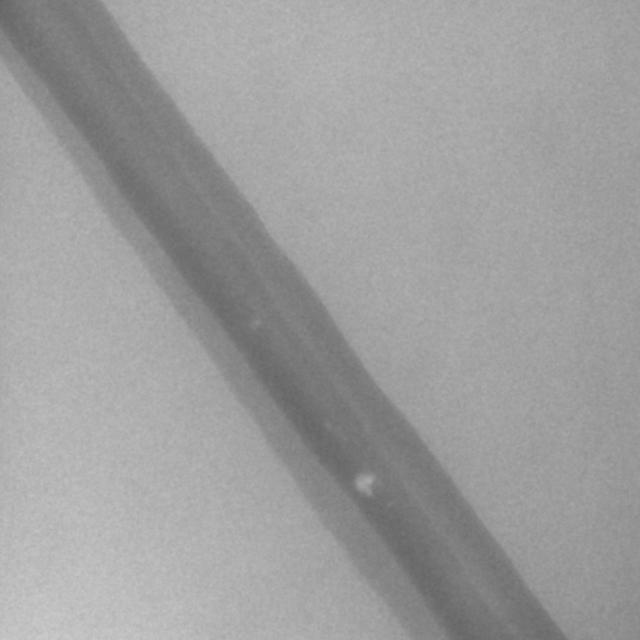slag inclusion: (356, 472, 376, 496)
